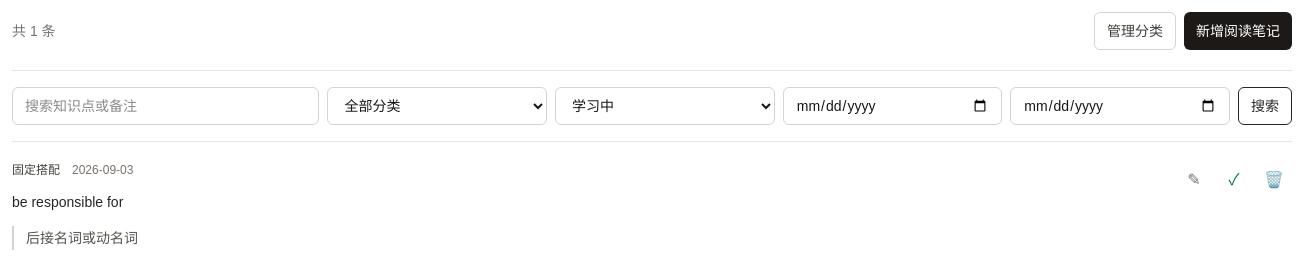
it: reading note library workflow › removes a mastered note immediately while its write is pending
Click the button named "标记为已掌握" at point(1234, 180), box 1216,162 -> 1252,198
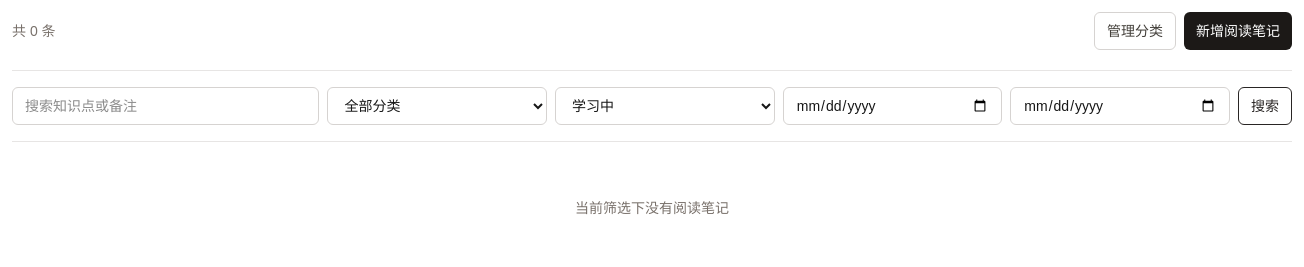
Expected: the text "be responsible for" is gone
